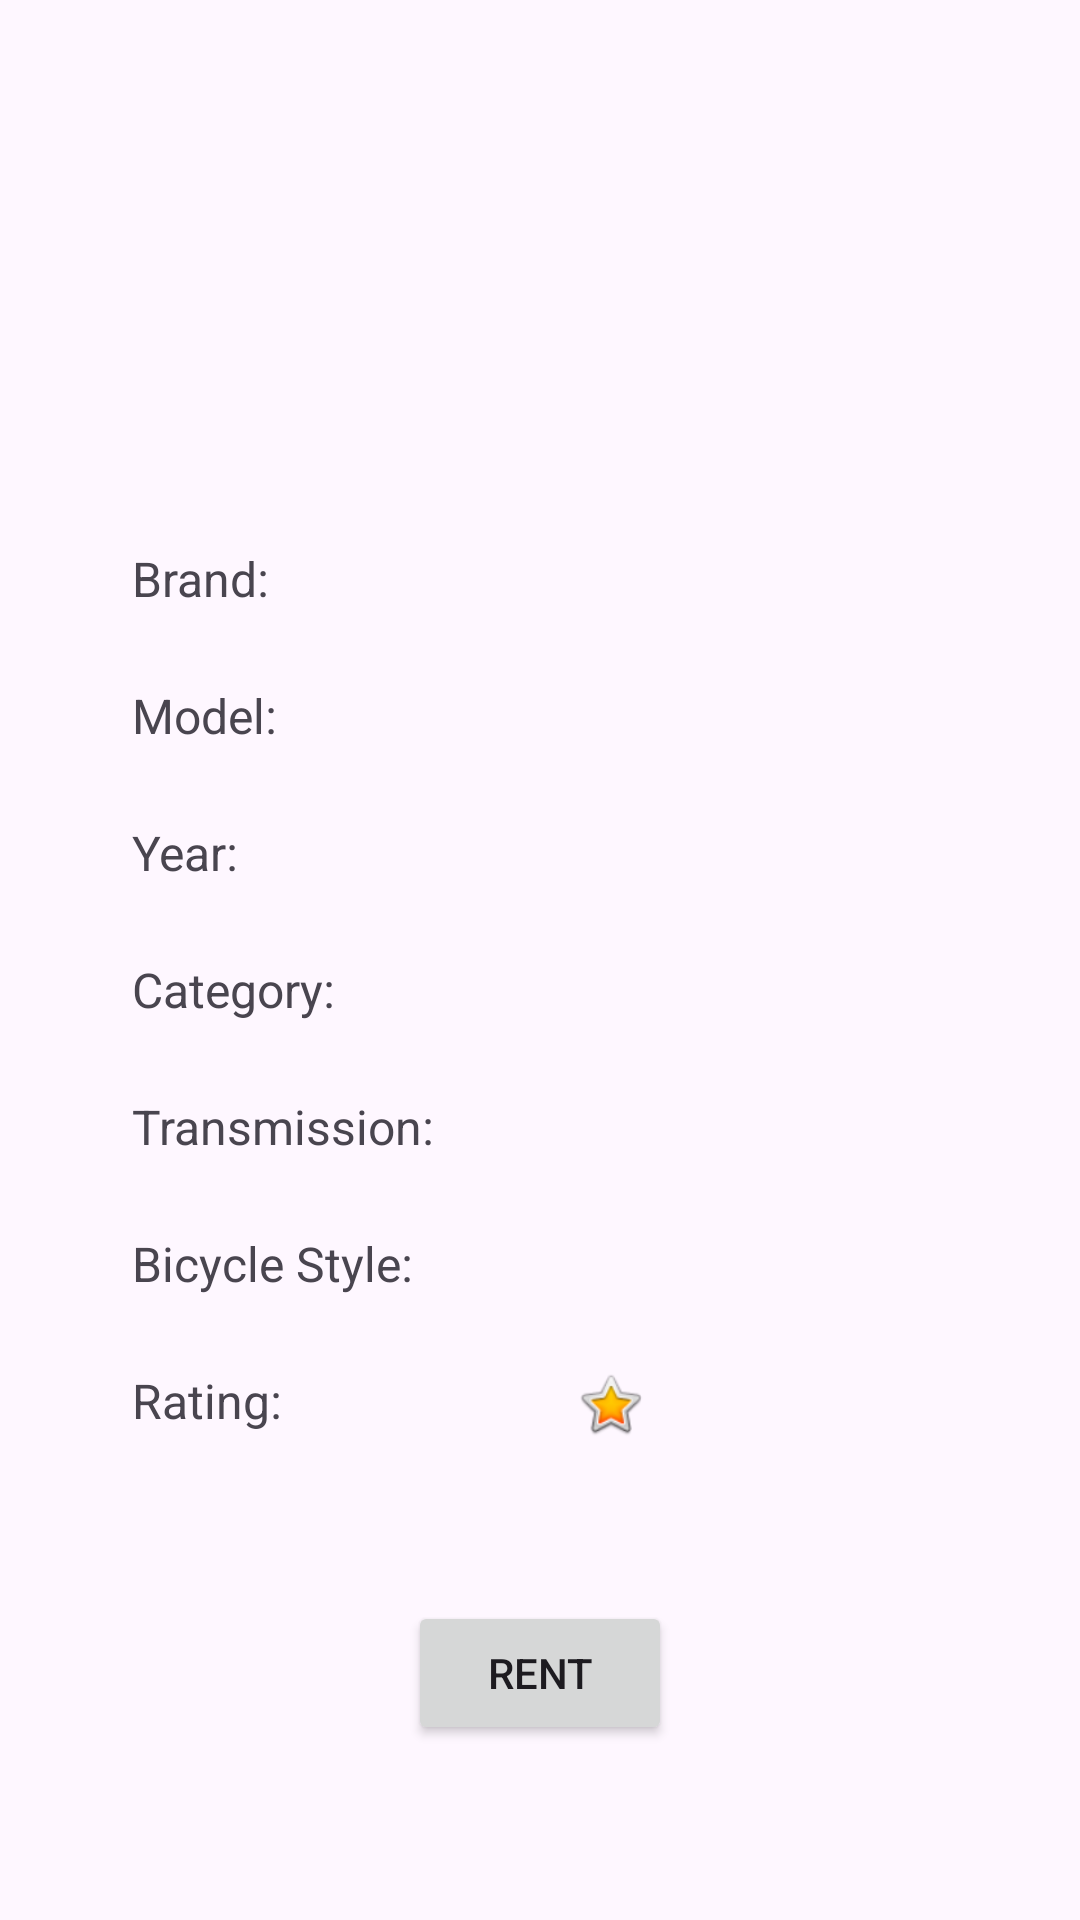

Icons on this 1080x1920 Android screen, each with the point to tap as (x=x, y=y):
star on: (x=611, y=1404)
